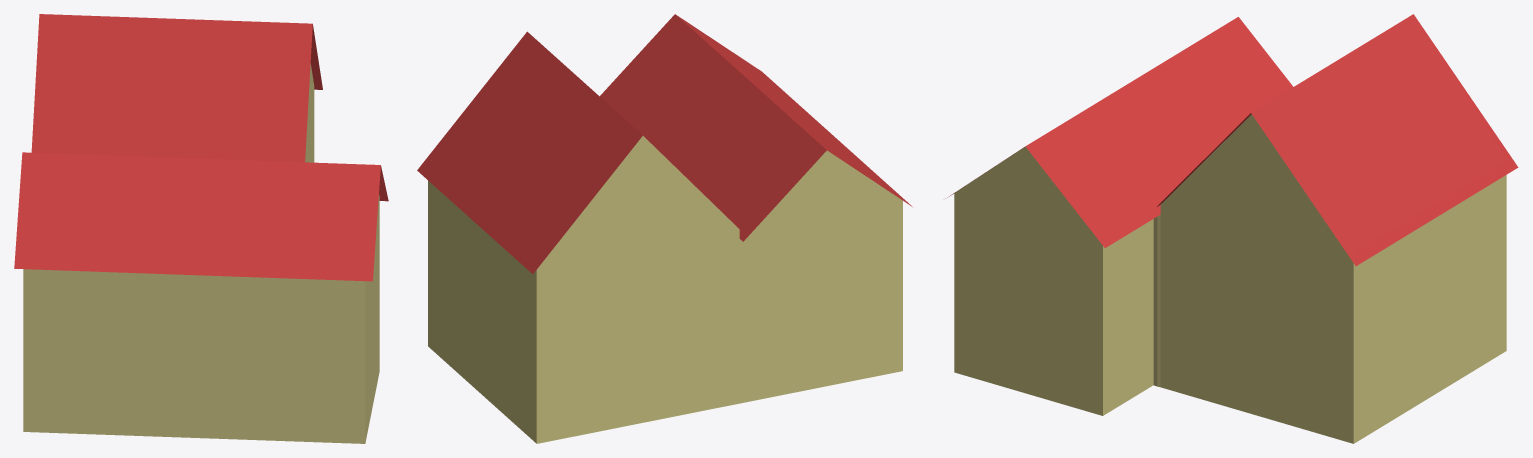
3 renders of one model, left to right at view 1: azimuth 30°, elevation 25°; view 2: azimuth 150°, elevation 25°; view 3: azimuth 270°, elevation 25°, orthographic. The views are drawn at different scales.
Size of the model in its own units: 14.18 by 16.81 by 9.83.
